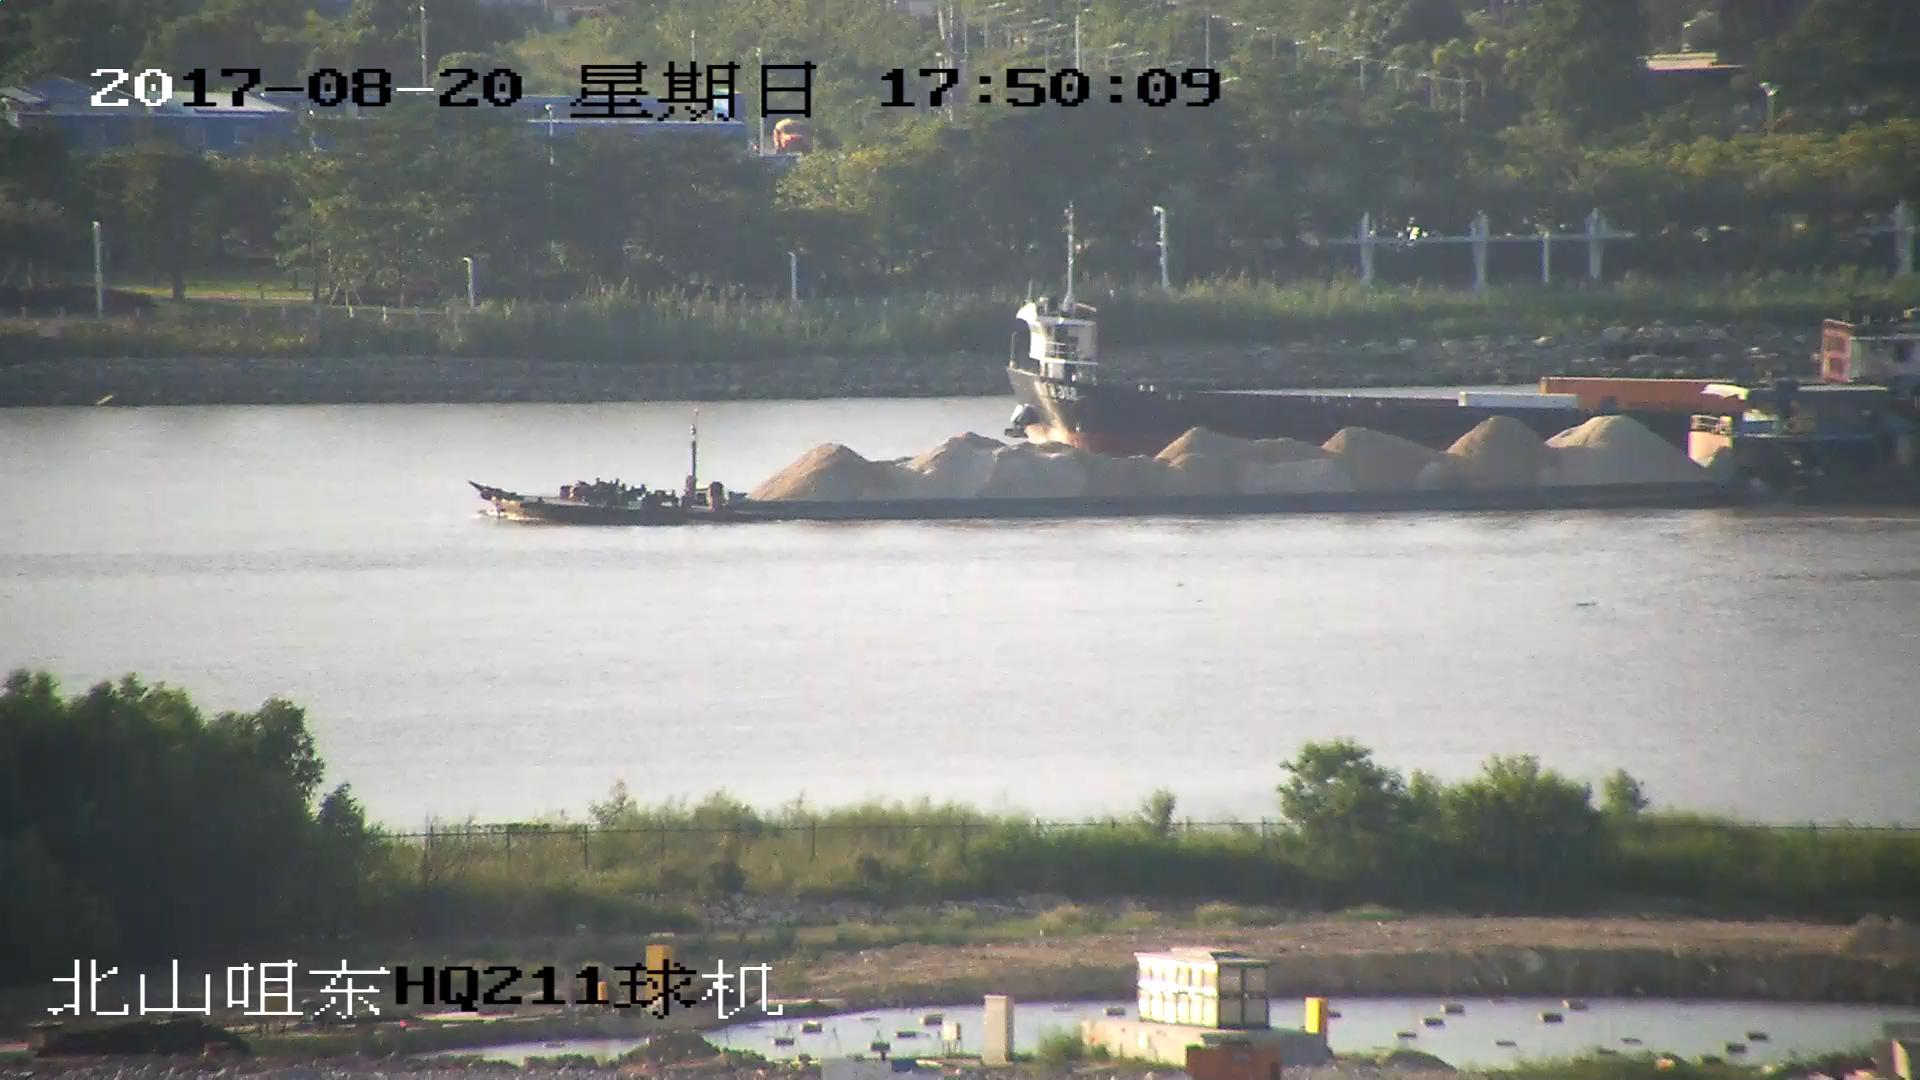Ship: (1002, 206, 1920, 455), (479, 392, 1920, 516)
